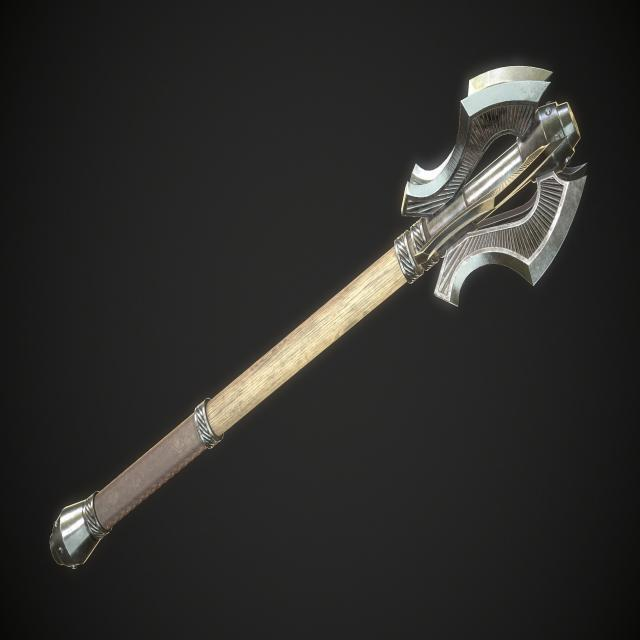mace: (48, 64, 591, 571)
